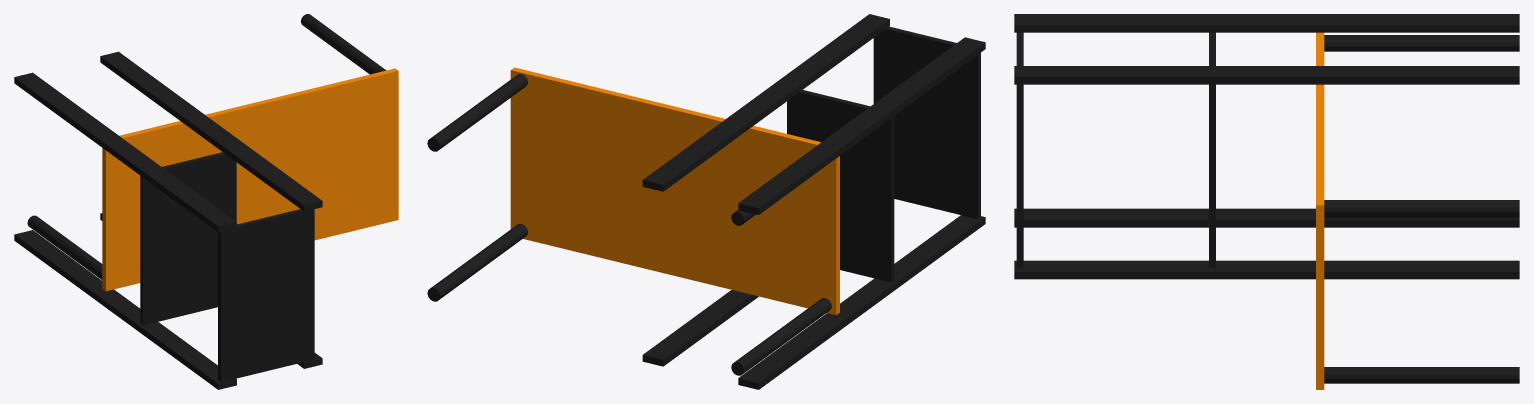
File: nil_link_mesh.dae
3 views of the same model, side by side, from view 1: azimuth 30°, elevation 25°; view 2: azimuth 150°, elevation 25°; view 3: azimuth 270°, elevation 25° (orthographic). The views are drawn at different scales.
Visible parts, largest first — view 1: nil_link (×8); view 2: nil_link (×10); view 3: nil_link (×11).
Part boxes in pixels (<box>): nil_link (×8): <box>14,14,398,389</box>; nil_link (×10): <box>427,14,985,389</box>; nil_link (×11): <box>1014,14,1519,389</box>.
Size of the model in its own units: 1.55 by 0.8 by 1.81.
